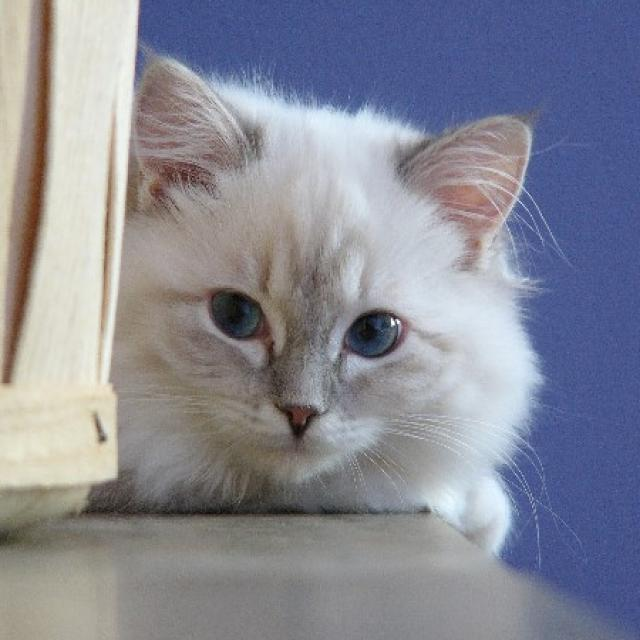Ragdoll: (110, 42, 546, 560)
